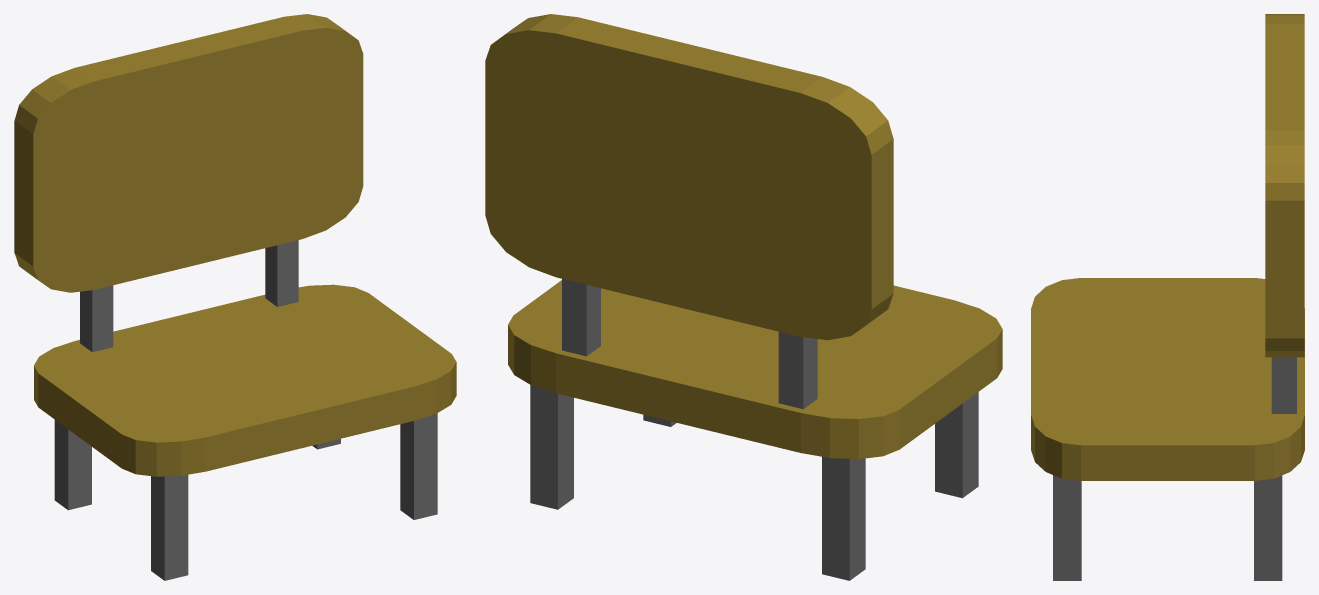
The model's file is Chair.fbx.
The picture shows the model from 3 angles, left to right: view 1: azimuth 30°, elevation 25°; view 2: azimuth 150°, elevation 25°; view 3: azimuth 270°, elevation 25°; orthographic projection. The views are drawn at different scales.
Parts seen in each view (by area): view 1: Chair; view 2: Chair; view 3: Chair.
Boxes of the visible parts, bbox=[...] form: Chair: bbox=[14, 14, 456, 580]; Chair: bbox=[485, 14, 1002, 580]; Chair: bbox=[1031, 14, 1304, 580].
Bounding box in the file's own units: 122 × 148 × 84.51.
